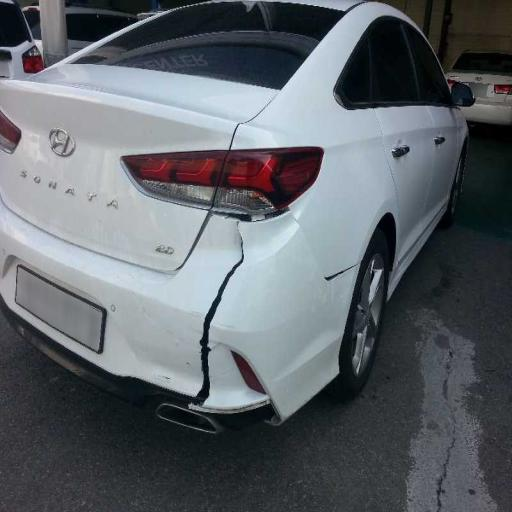broken: (160, 154, 293, 434)
